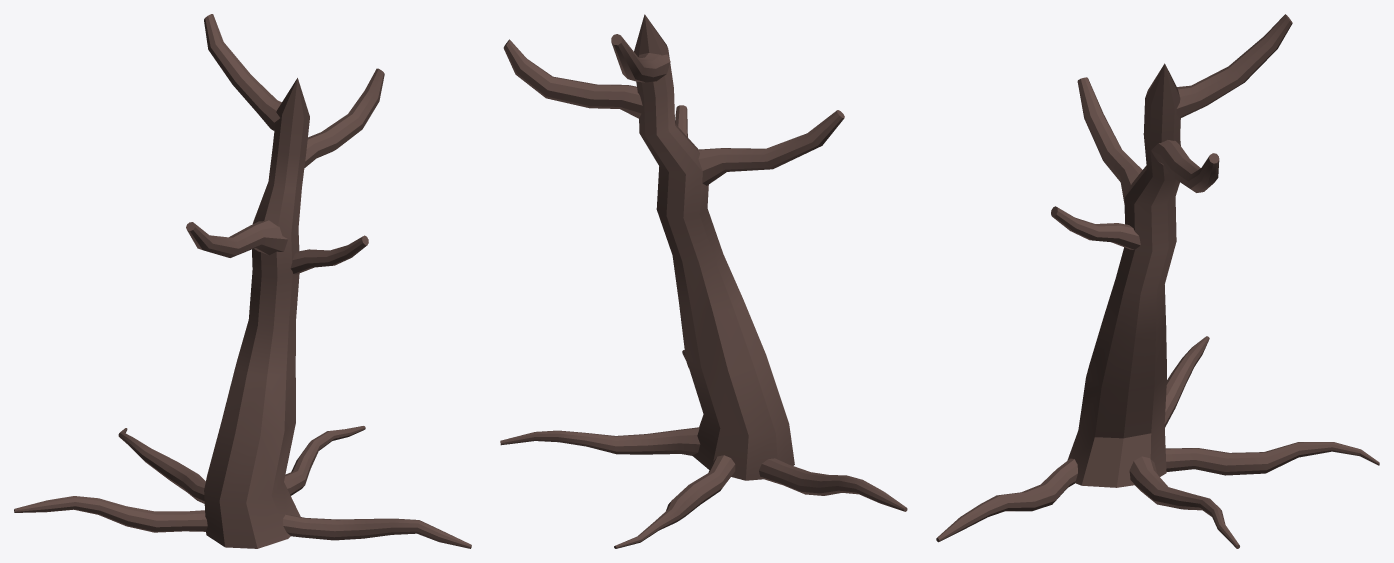
The model's file is Mesh_dead_tree_3.fbx.
3 views of the same model, side by side, from view 1: azimuth 30°, elevation 25°; view 2: azimuth 150°, elevation 25°; view 3: azimuth 270°, elevation 25° (orthographic). The views are drawn at different scales.
Parts seen in each view (by area): view 1: dead_tree_3; view 2: dead_tree_3; view 3: dead_tree_3.
Boxes of the visible parts, x1,y1,x2,y2 form: dead_tree_3: (14, 14, 471, 548); dead_tree_3: (500, 14, 907, 548); dead_tree_3: (936, 14, 1379, 548).
Bounding box in the file's own units: 593 × 683 × 567.
1 material, 1 textured.
